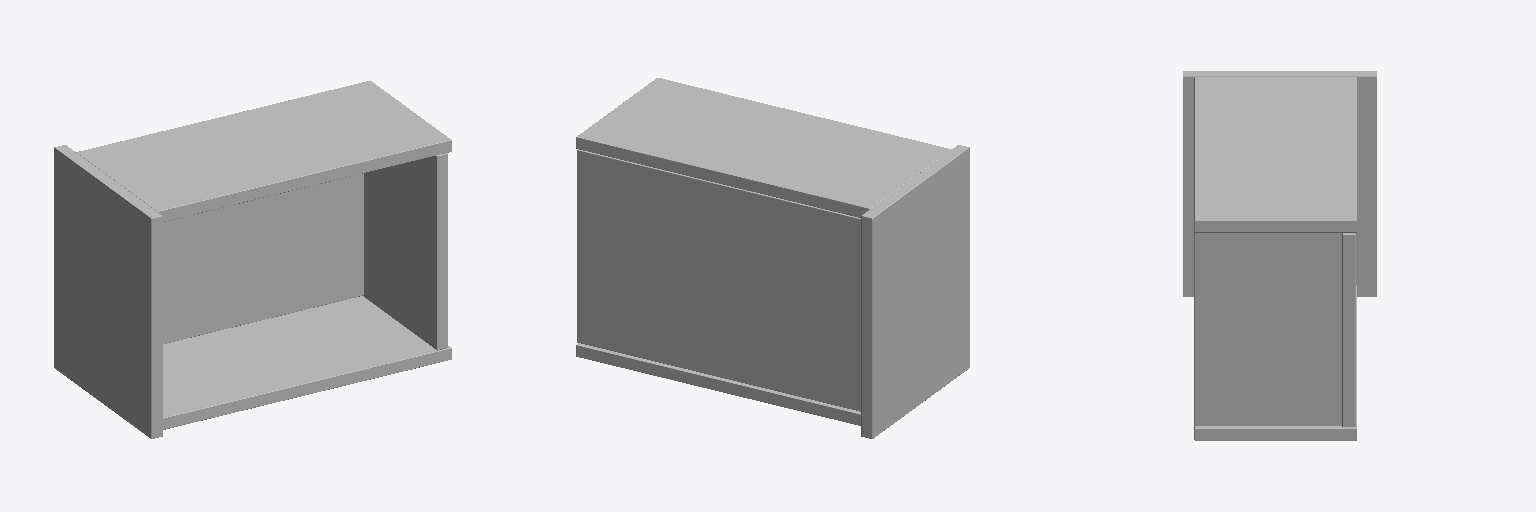
Rendered from coffee_table_drawer.obj.
3 renders of one model, left to right at view 1: azimuth 30°, elevation 25°; view 2: azimuth 150°, elevation 25°; view 3: azimuth 270°, elevation 25°, orthographic.
Size of the model in its own units: 0.5745 by 0.396 by 0.316.